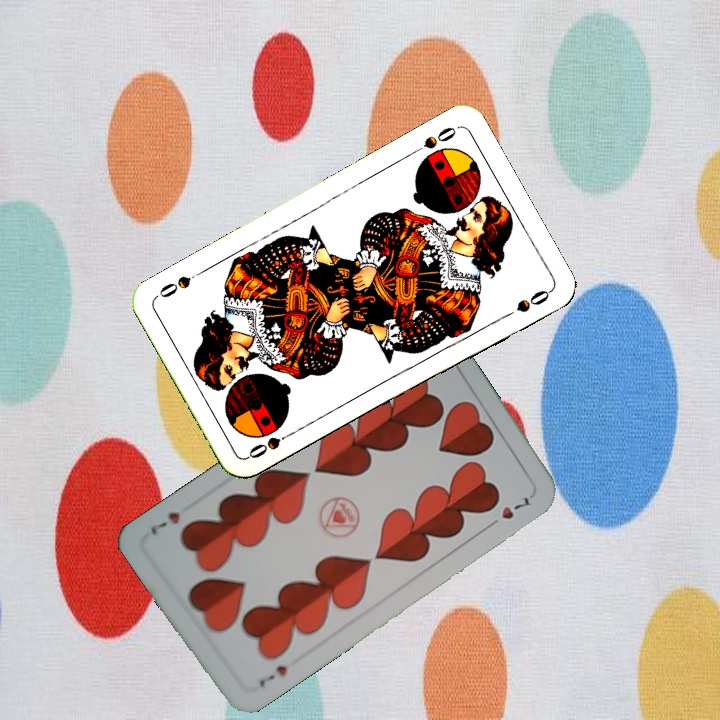H7: (254, 661, 290, 690)
SO: (244, 426, 299, 462), (406, 122, 460, 158)
